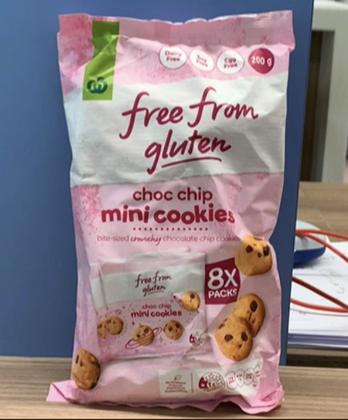cookies_150g: (83, 78, 276, 389)
